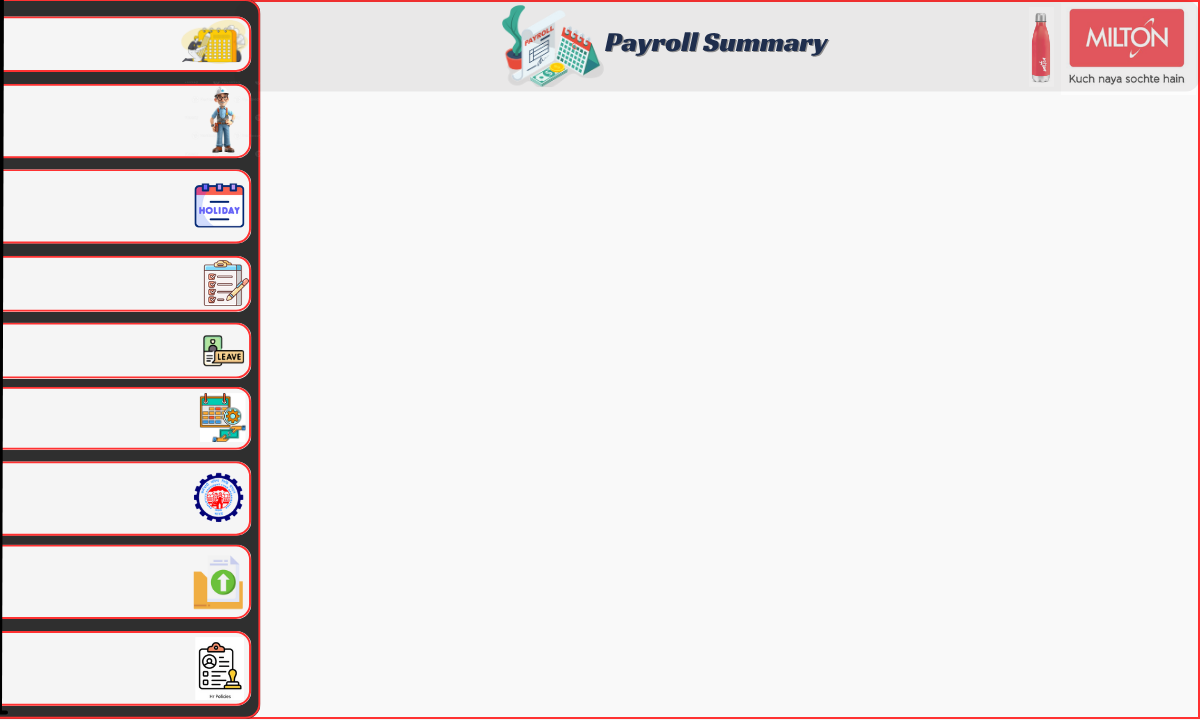

The dashboard page shown, as its layout file describes it:
{"tool":"powerbi","page":{"name":"Payroll Summary","canvas":[1280,720],"ordinal":11},"visuals":[{"type":"actionButton","title":"HR Quick Overview","box":[12,24,181.8,40.6],"z":0},{"type":"actionButton","title":"HR Quick Overview","box":[12,91.6,216.3,60.1],"z":1000},{"type":"actionButton","title":"HR Quick Overview","box":[12,178.8,216.3,60.1],"z":2000},{"type":"actionButton","title":"HR Quick Overview","box":[12,253.9,216.3,60.1],"z":3000},{"type":"actionButton","title":"HR Quick Overview","box":[12,320,216.3,60.1],"z":4000},{"type":"actionButton","title":"HR Quick Overview","box":[12,392.1,216.3,60.1],"z":5000},{"type":"actionButton","title":"HR Quick Overview","box":[12,468.7,216.3,60.1],"z":6000},{"type":"actionButton","title":"HR Quick Overview","box":[12,551.4,216.3,60.1],"z":7000},{"type":"actionButton","title":"HR Quick Overview","box":[12,640,216.3,60.1],"z":8000},{"type":"shape","box":[271.2,92.3,1009.1,93.5],"z":9000,"group":"g1"},{"type":"shape","box":[275.2,171,1004.5,93.3],"z":9000},{"type":"shape","box":[279.9,253.5,999.8,466.5],"z":10000},{"type":"slicer","fields":{"Values":["VIEW_EMPLOYEE_MASTER.Department"]},"box":[851.1,96.9,209.2,75.4],"z":12000,"group":"g1"},{"type":"actionButton","title":"HR Quick Overview","box":[847.4,178.8,426.1,80.9],"z":12000},{"type":"group","id":"g1","title":"Group 1","box":[271.2,92.3,1008.5,92.3],"z":13000},{"type":"slicer","fields":{"Values":["VIEW_EMPLOYEE_MASTER.EmployeeID"]},"box":[471.6,96.5,180,75.4],"z":13000,"group":"g1"},{"type":"slicer","fields":{"Values":["VIEW_EMPLOYEE_MASTER.Designation"]},"box":[1064.8,95.2,203.4,77.9],"z":14000},{"type":"slicer","fields":{"Values":["VIEW_EMPLOYEE_MASTER.EmployeeName"]},"box":[654.6,96.6,192.3,75.4],"z":14000,"group":"g1"},{"type":"slicer","fields":{"Values":["My_Calendar.Financial_Year","My_Calendar.Month Name"]},"box":[285.5,96.5,180,75.4],"z":15000,"group":"g1"},{"type":"advancedSlicerVisual","fields":{"Values":["Amount Config.Config"]},"box":[286.1,181.9,306.3,73.1],"z":16000},{"type":"clusteredColumnChart","title":"Year Wise Salary Flow","fields":{"Category":["My_Calendar.Financial_Year","My_Calendar.Quarter","My_Calendar.Month Name"],"Y":["All Measure.Net_Pay"]},"box":[286.1,264.3,982.7,443.2],"z":17000},{"type":"cardVisual","title":"Emp Count","fields":{"Data":["All Measure.Net_Pay"]},"box":[625.1,183.5,192.8,74.6],"z":18000}]}

Visuals, with their boxes on the page's 1280x720 design canvas (x1, y1, x2, y2). These are canvas units, not pixel positions in the 1200x720 screenshot, which may show the page scaled, cropped or inside an application window:
"HR Quick Overview" actionButton: x1=12, y1=24, x2=194, y2=65
"HR Quick Overview" actionButton: x1=12, y1=92, x2=228, y2=152
"HR Quick Overview" actionButton: x1=12, y1=179, x2=228, y2=239
"HR Quick Overview" actionButton: x1=12, y1=254, x2=228, y2=314
"HR Quick Overview" actionButton: x1=12, y1=320, x2=228, y2=380
"HR Quick Overview" actionButton: x1=12, y1=392, x2=228, y2=452
"HR Quick Overview" actionButton: x1=12, y1=469, x2=228, y2=529
"HR Quick Overview" actionButton: x1=12, y1=551, x2=228, y2=612
"HR Quick Overview" actionButton: x1=12, y1=640, x2=228, y2=700
shape: x1=271, y1=92, x2=1280, y2=186
shape: x1=275, y1=171, x2=1280, y2=264
shape: x1=280, y1=254, x2=1280, y2=720
slicer - VIEW_EMPLOYEE_MASTER.Department: x1=851, y1=97, x2=1060, y2=172
"HR Quick Overview" actionButton: x1=847, y1=179, x2=1274, y2=260
"Group 1" group: x1=271, y1=92, x2=1280, y2=185
slicer - VIEW_EMPLOYEE_MASTER.EmployeeID: x1=472, y1=96, x2=652, y2=172
slicer - VIEW_EMPLOYEE_MASTER.Designation: x1=1065, y1=95, x2=1268, y2=173
slicer - VIEW_EMPLOYEE_MASTER.EmployeeName: x1=655, y1=97, x2=847, y2=172
slicer - My_Calendar.Financial_Year x My_Calendar.Month Name: x1=286, y1=96, x2=466, y2=172
advancedSlicerVisual - Amount Config.Config: x1=286, y1=182, x2=592, y2=255
"Year Wise Salary Flow" clusteredColumnChart: x1=286, y1=264, x2=1269, y2=708
"Emp Count" cardVisual: x1=625, y1=184, x2=818, y2=258
